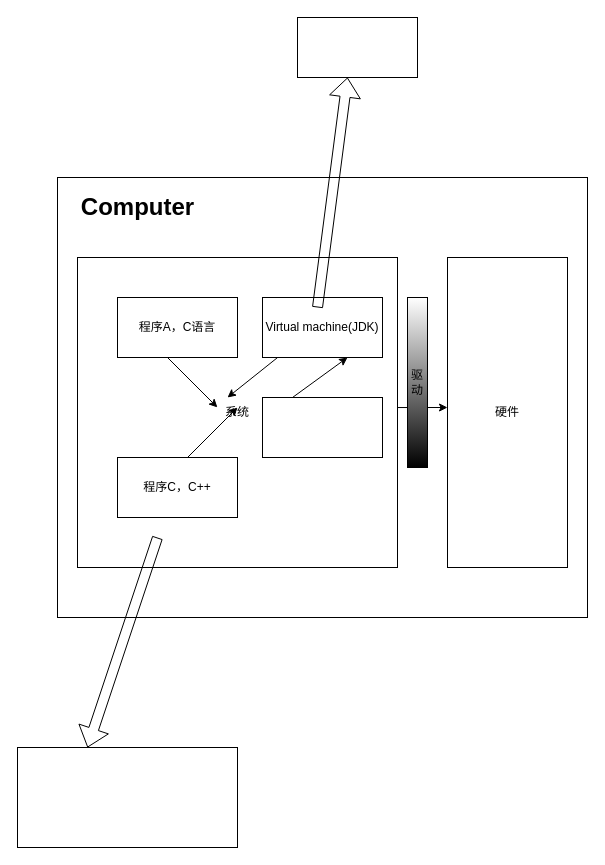
The diagram is 605 pixels wide and 865 high, and some of its shapes have lost their labels. Here are the shapes that lost their labels. From the top down, the box of each, then its label:
(296, 16, 418, 78): C语言，C++，其他
(262, 396, 382, 458): java程序
(16, 746, 238, 848): C，C++，汇编其他
